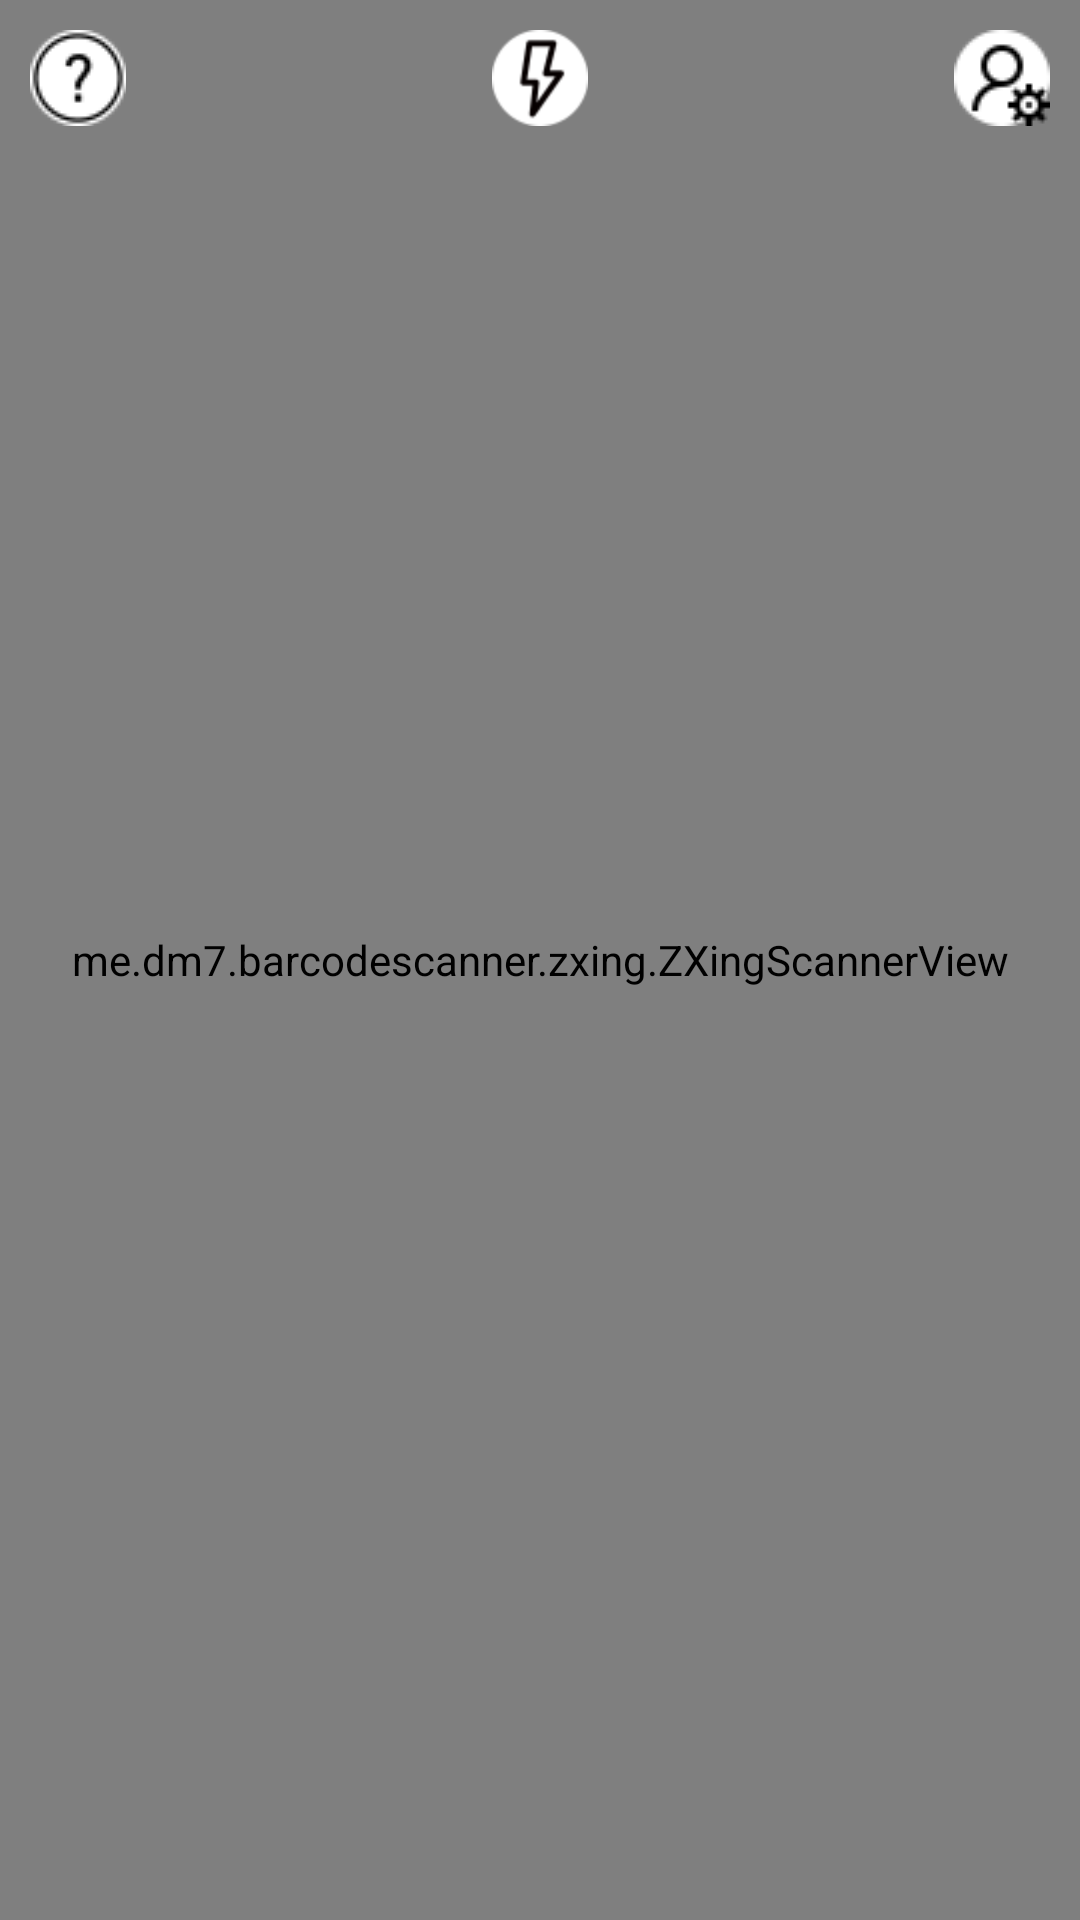

Where icons sit on this 1080w x 1920h app screen, as box=[x1, y1, x2, y2]:
flash: box=[492, 30, 588, 126]
help: box=[30, 30, 126, 126]
